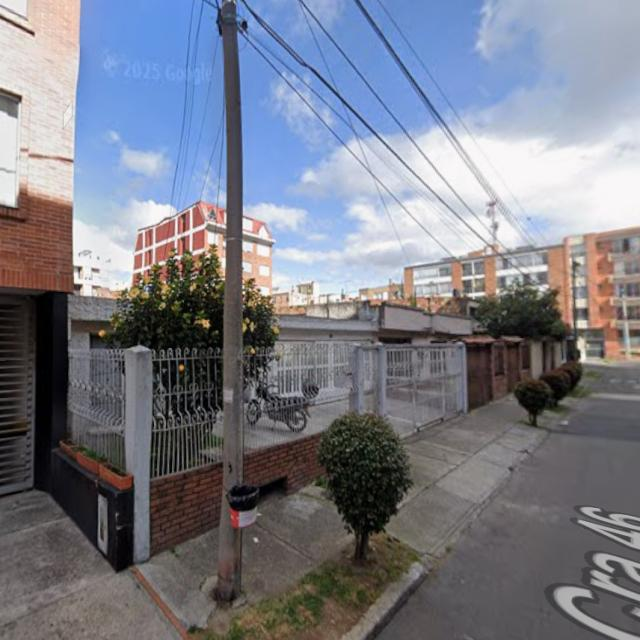fachada: (0, 0, 79, 494), (405, 227, 639, 359), (565, 227, 639, 359), (405, 245, 568, 299), (279, 301, 474, 344), (134, 202, 226, 281), (74, 251, 111, 297), (272, 281, 320, 313), (359, 281, 403, 303)
poste: (217, 0, 243, 601), (622, 292, 631, 359), (572, 260, 578, 354)
